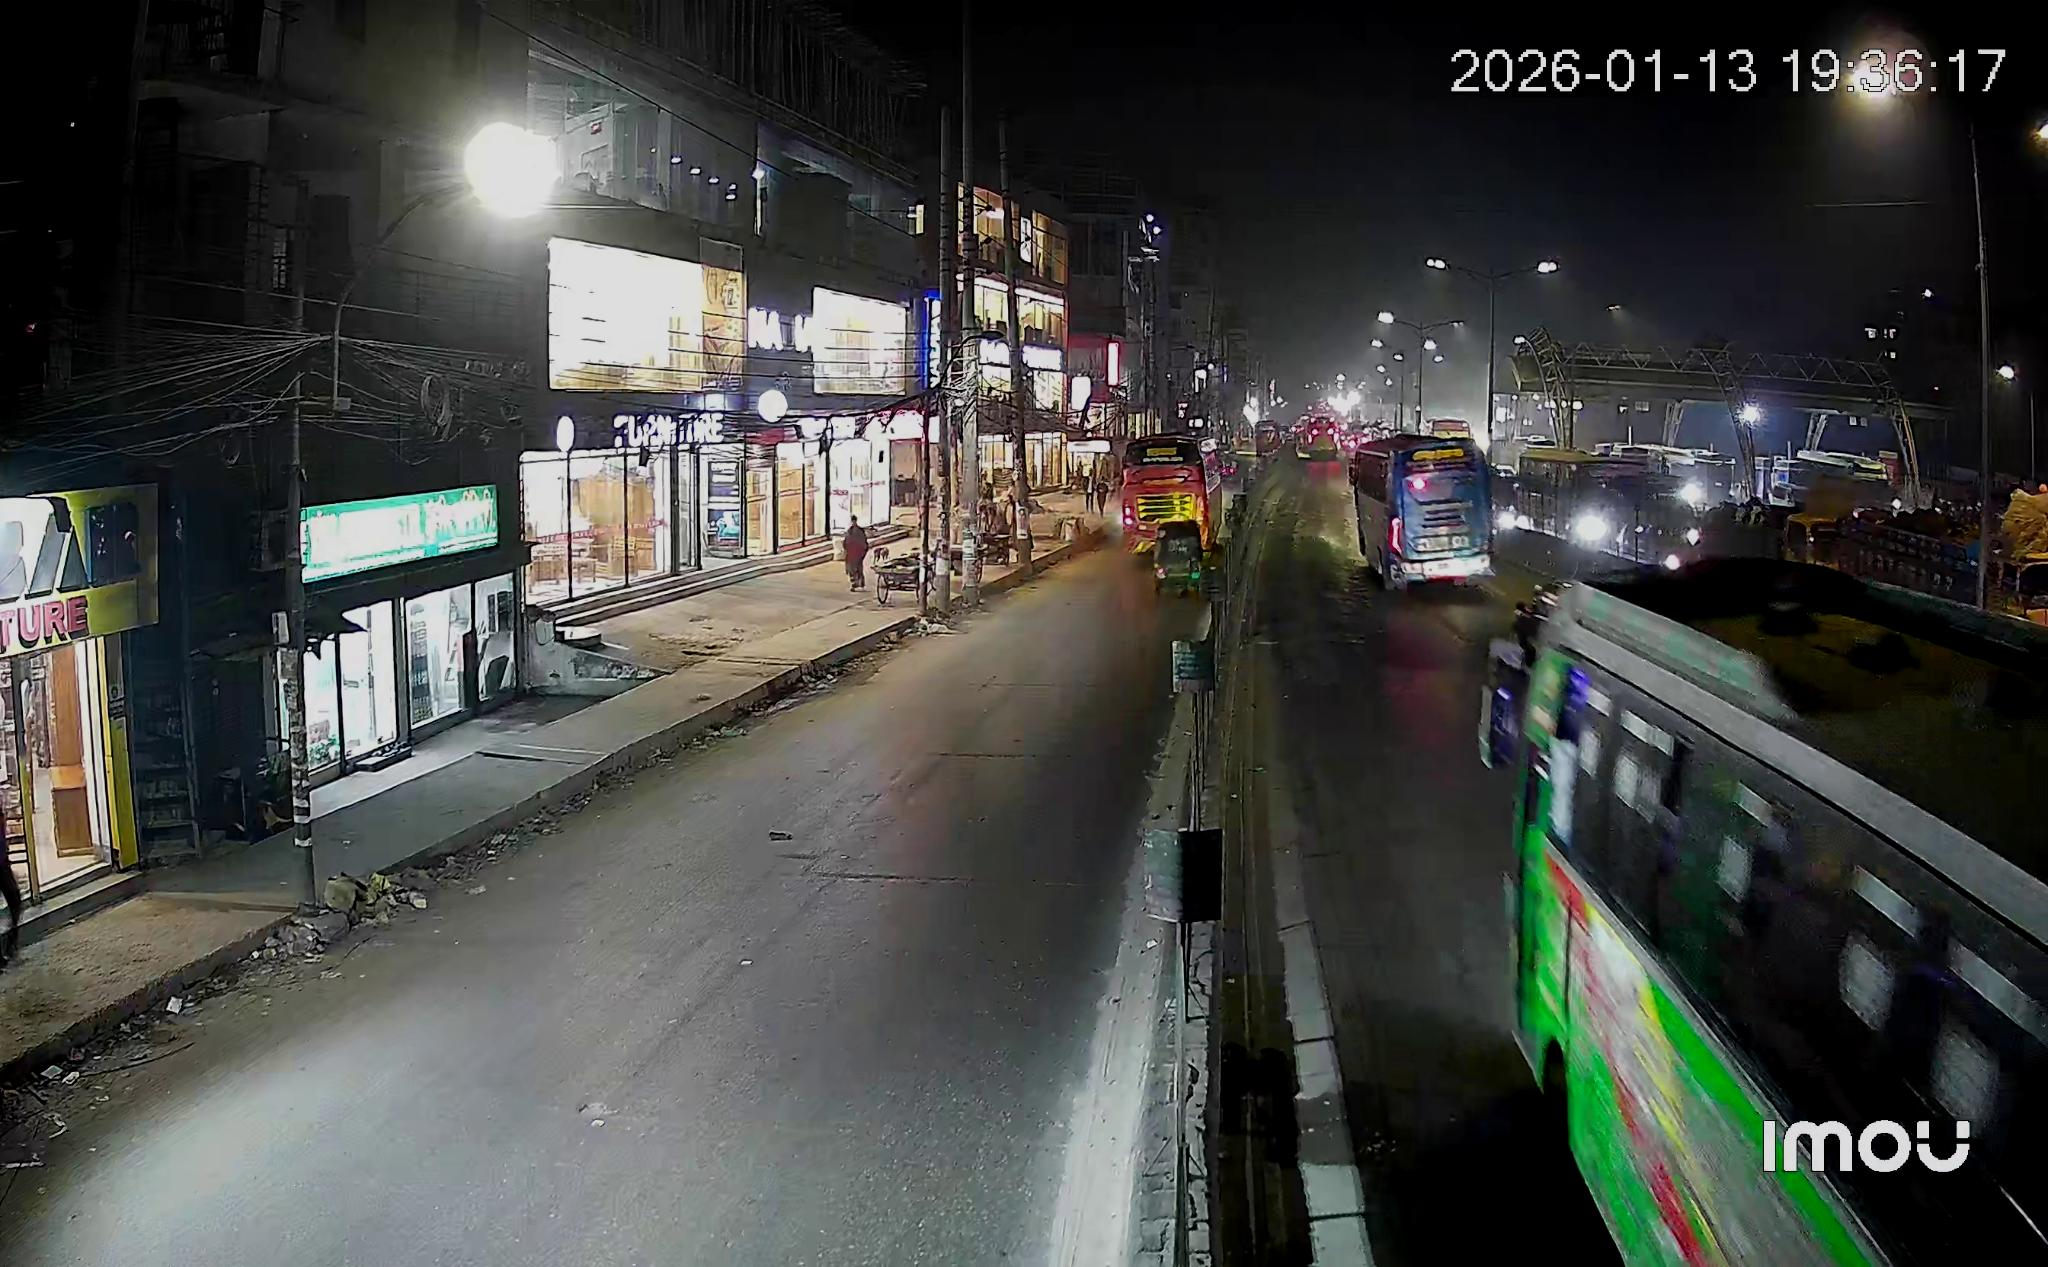Bus: (1485, 559, 2047, 1267), (1352, 437, 1495, 591), (1121, 435, 1227, 552)
CNG-Tempo: (1154, 522, 1204, 594)
